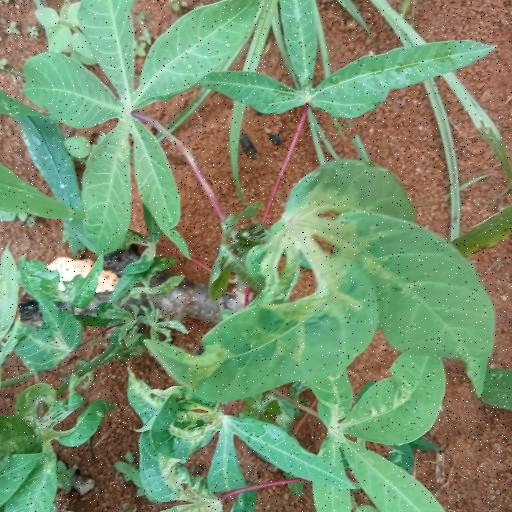Cassava_Mosaic: (179, 165, 484, 438)
